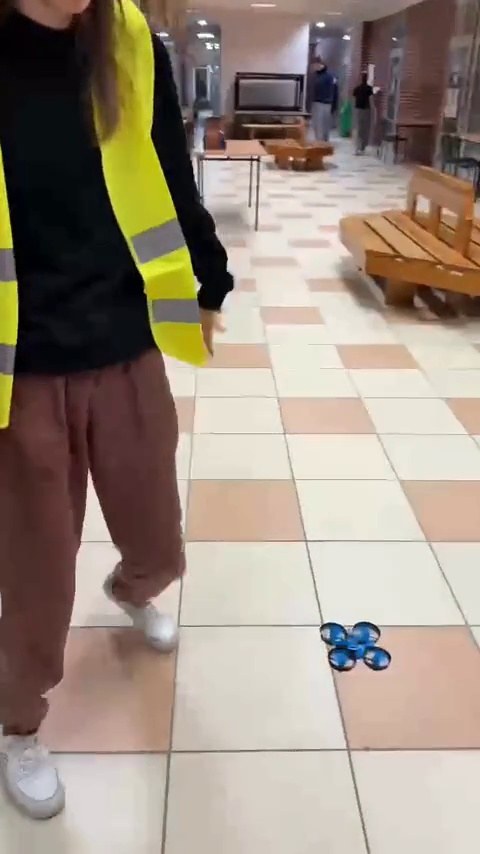drone: (316, 620, 390, 668)
no vest: (300, 51, 340, 158), (345, 65, 380, 161)
vest: (2, 0, 212, 809)
